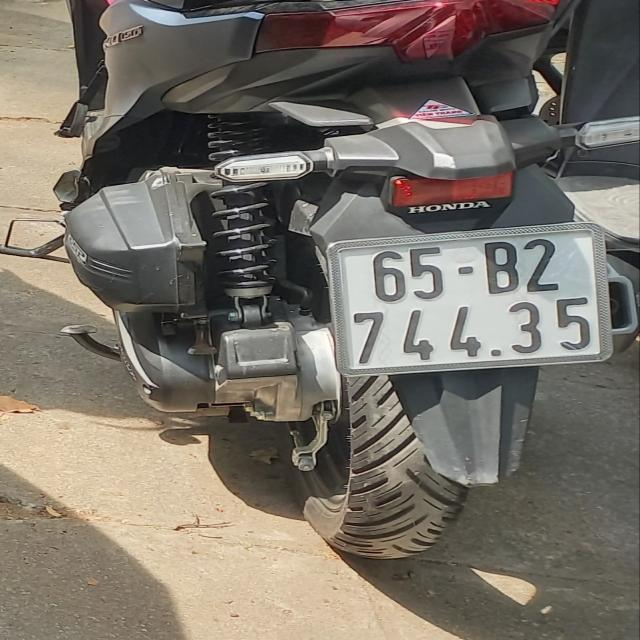2: (525, 239, 560, 292)
3: (509, 301, 542, 354)
4: (401, 310, 439, 360), (452, 305, 481, 359)
5: (555, 296, 590, 352), (410, 246, 444, 299)
6: (374, 250, 404, 300)
7: (356, 312, 386, 366)
B: (484, 242, 522, 292)
